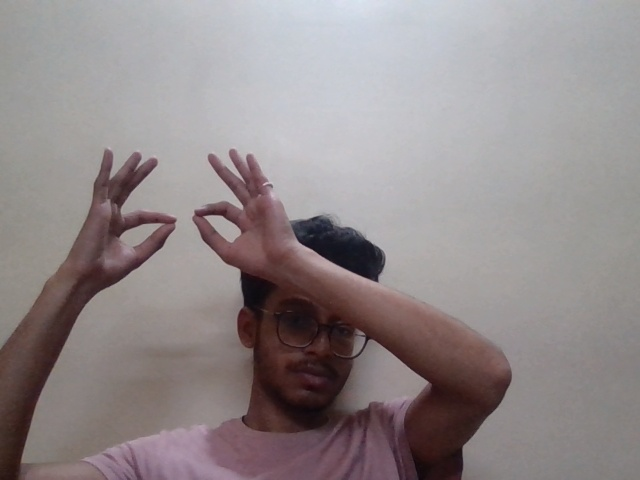nice: (59, 137, 299, 280)
